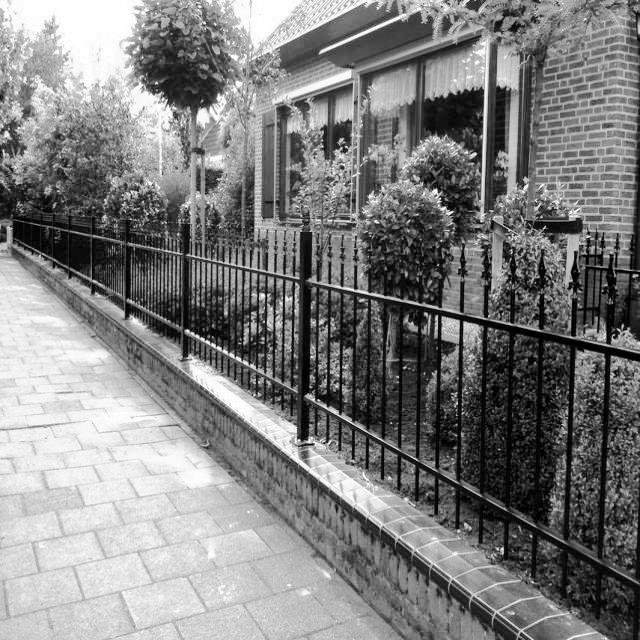fences: (216, 222, 640, 608), (22, 200, 185, 338)
